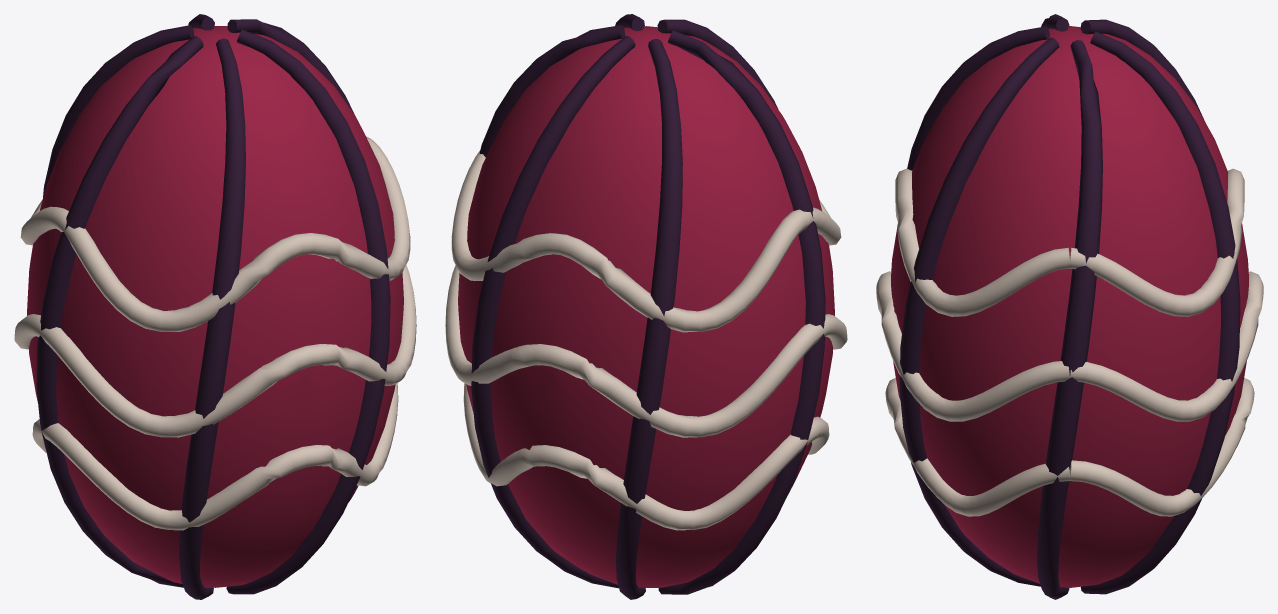
Rendered from brood_egg.glb.
3 views of the same model, side by side, from view 1: azimuth 30°, elevation 25°; view 2: azimuth 150°, elevation 25°; view 3: azimuth 270°, elevation 25° (orthographic).
Visible parts, largest first — view 1: brood_egg; view 2: brood_egg; view 3: brood_egg.
Boxes of the visible parts, <box> form: brood_egg: <box>14,14,416,599</box>; brood_egg: <box>445,14,847,599</box>; brood_egg: <box>876,14,1263,599</box>.
Size of the model in its own units: 1.67 by 2.51 by 1.59.
